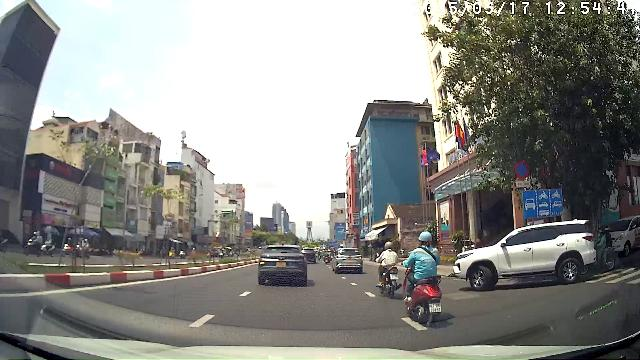131a-cam-do-xe: (514, 161, 528, 179)
